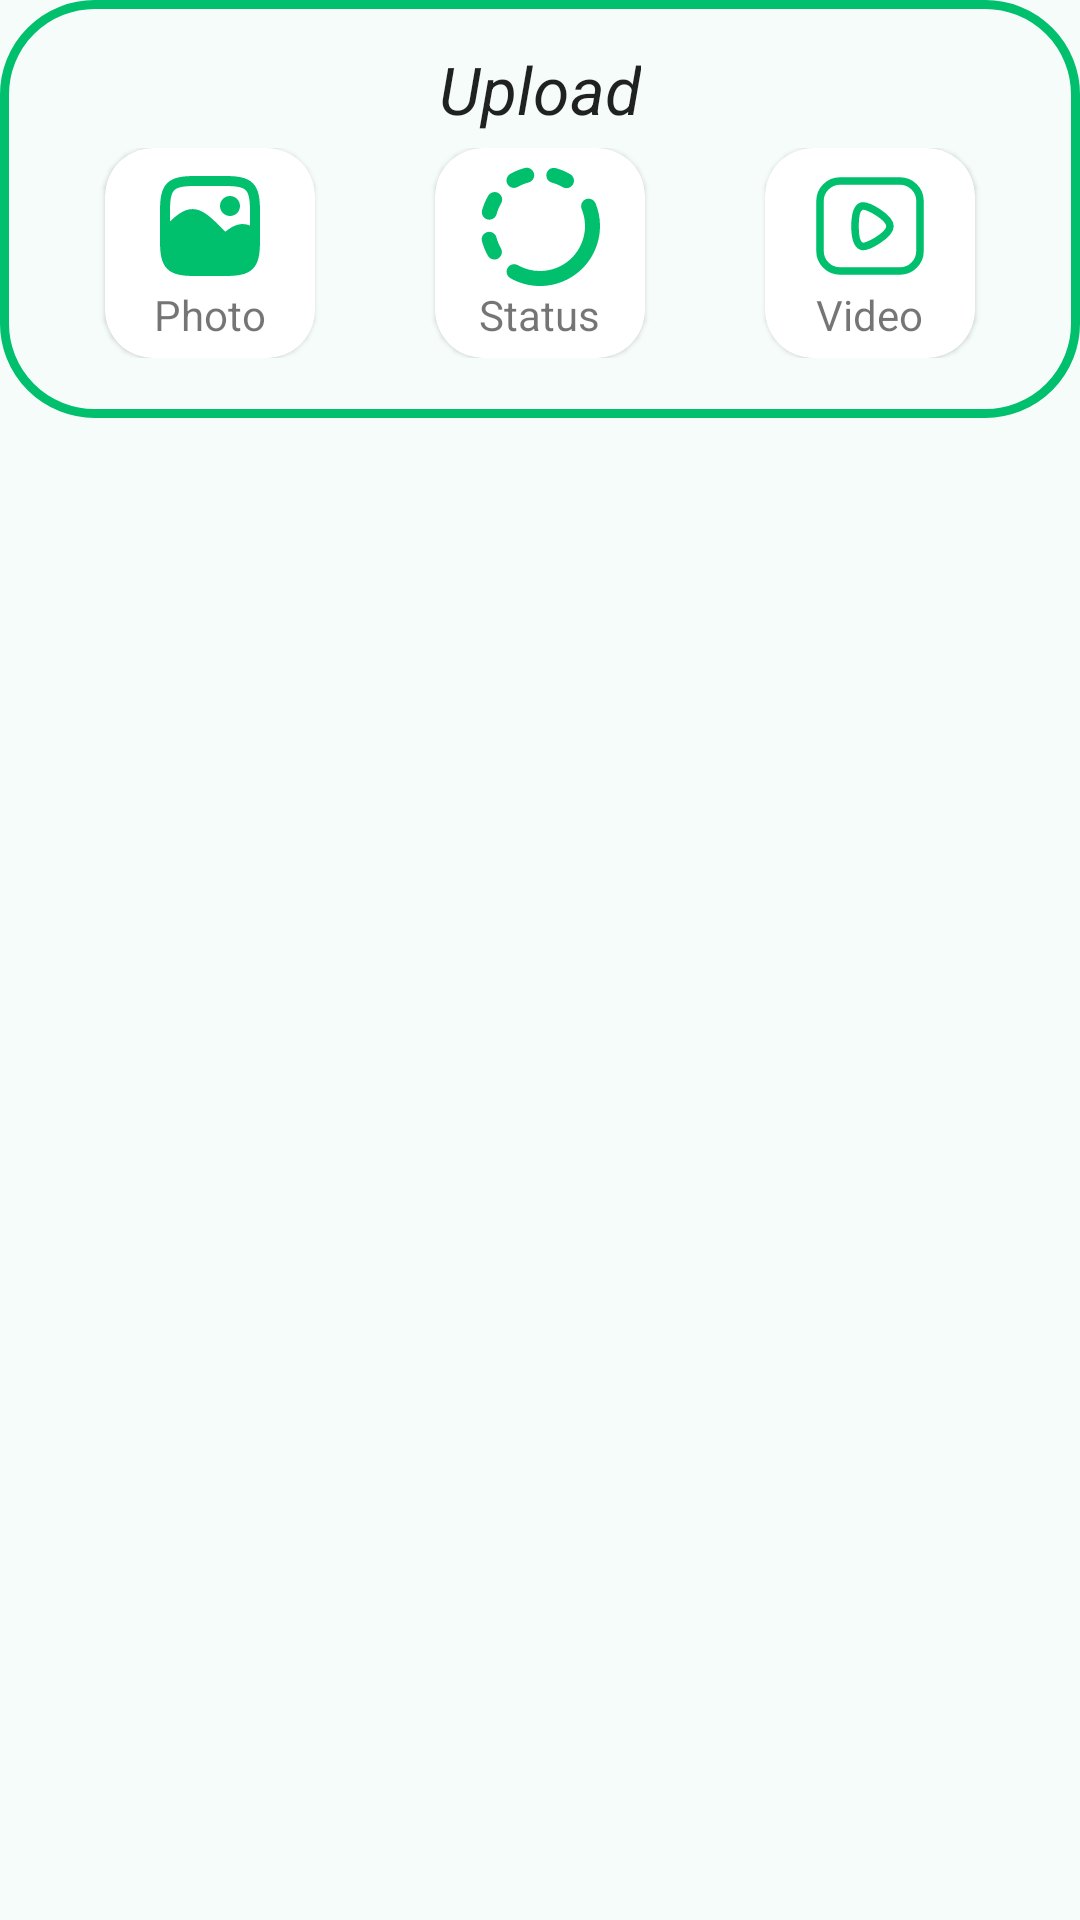

Icon bounding boxes for this 1080w x 1920h phone screenshot, format (x1,y1,x2,y2):
add post: (160,176,260,276)
